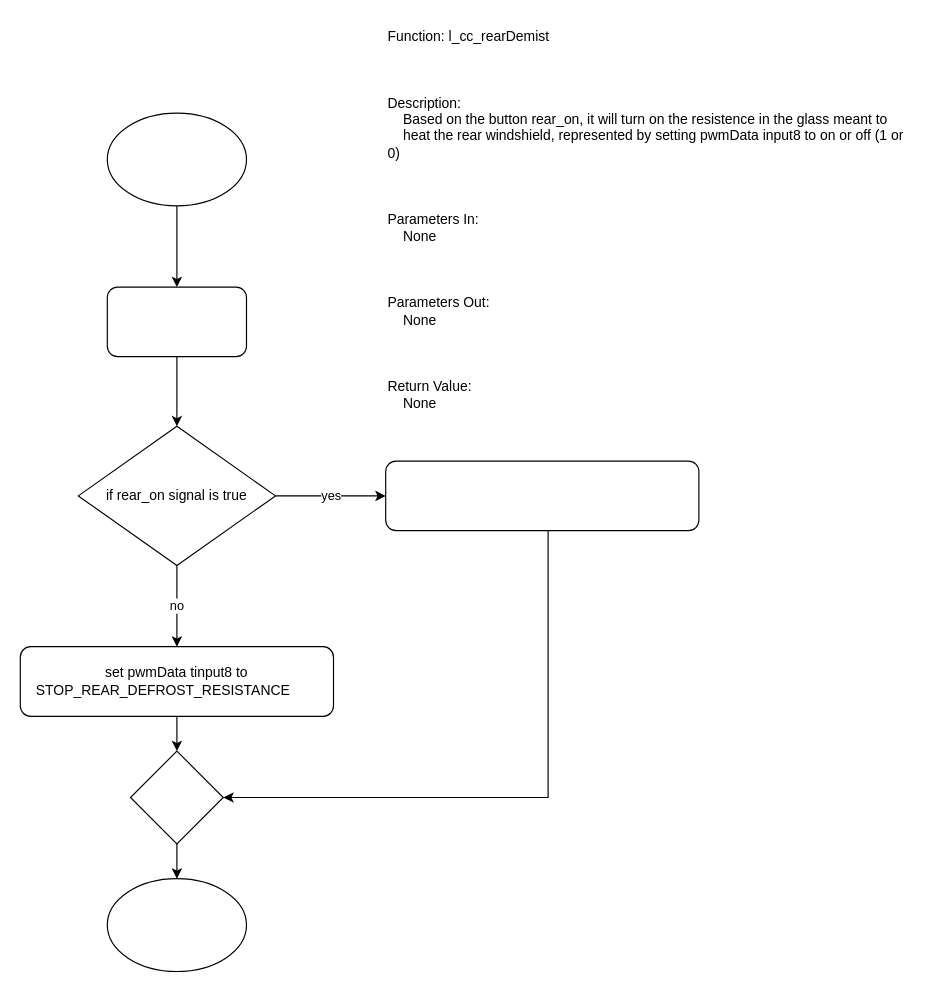
The diagram is 940 pixels wide and 992 high, and some of its shapes have lost their labels. Each missing label, with the centre of its shape:
call l_cc_rearDemist: point (176, 321)
set pwmData tinput8 to START_REAR_DEFROST_RESISTANCE: point (542, 495)
